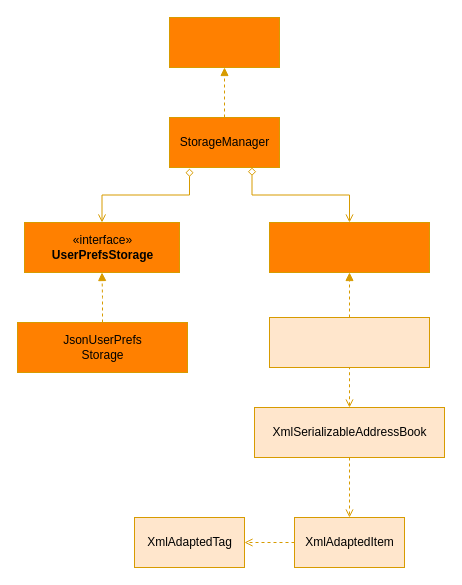
Image size: 462x585. Some labels were removed from this diagram. Each missing label, with the box of its shape:
XmlAddressBookStorage: (268, 316, 430, 368)
«interface» AddressBookStorage: (268, 222, 430, 272)
«interface» Storage: (168, 16, 280, 68)
